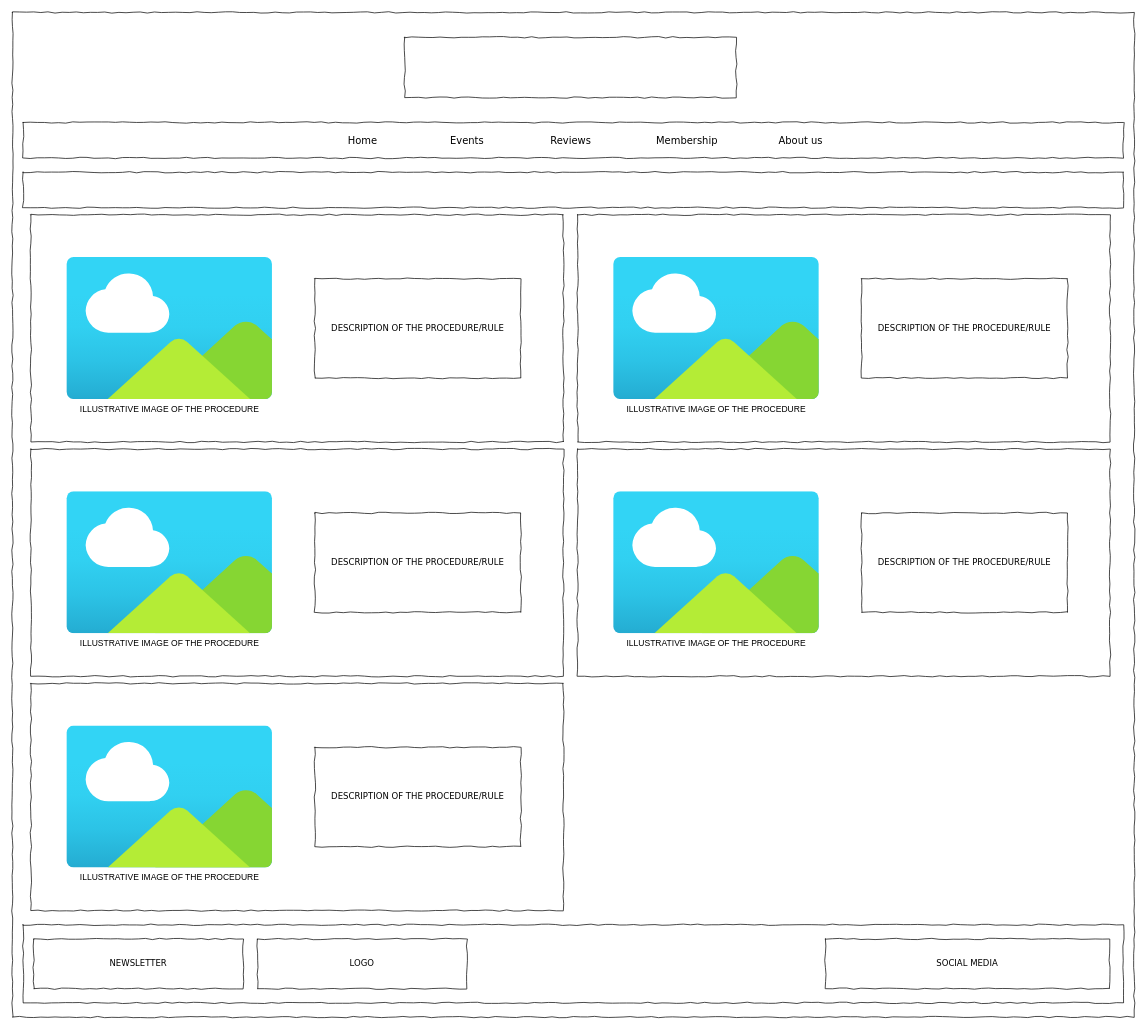
Image size: 1147x1030. Some labels were removed from this diagram. The shapes that lost their labels are listed below. From the top down, each one's box as (x1, y1, x2, y2) in pixels, then its label:
(404, 37, 736, 98): Anima Mundi Board Game Club
(22, 171, 1124, 208): COVID GUIDELINES
(22, 924, 1124, 1003): ADDRESS
